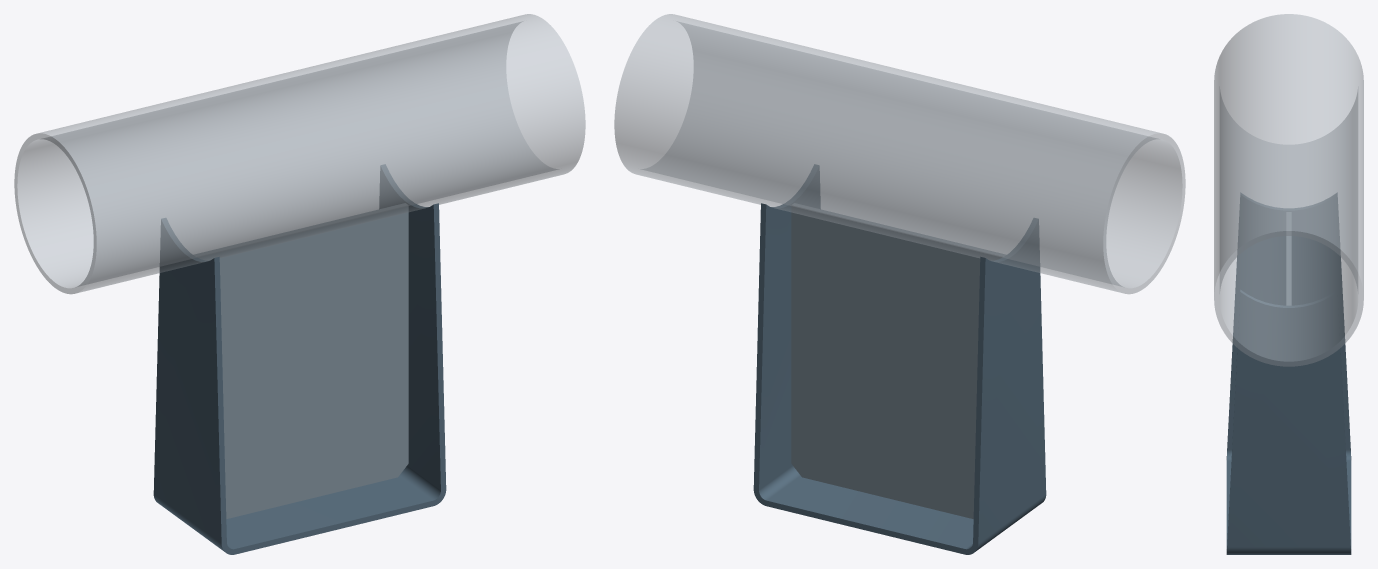
File: TS-623.000-08-opora-dn108-H200-L170.glb
3 views of the same model, side by side, from view 1: azimuth 30°, elevation 25°; view 2: azimuth 150°, elevation 25°; view 3: azimuth 270°, elevation 25° (orthographic). The views are drawn at different scales.
Visible parts, largest first — view 1: truba, rebro, skoba; view 2: truba, rebro, skoba; view 3: truba, skoba, rebro.
Part boxes in pixels (x1,y1,x2,y2): truba: (14, 14, 585, 294); rebro: (194, 203, 408, 518); skoba: (153, 164, 446, 554); truba: (614, 14, 1185, 294); rebro: (791, 203, 1005, 518); skoba: (753, 164, 1046, 554); truba: (1214, 14, 1363, 366); skoba: (1226, 193, 1351, 554); rebro: (1286, 212, 1291, 305).
Size of the model in its own units: 370 by 308 by 108.
